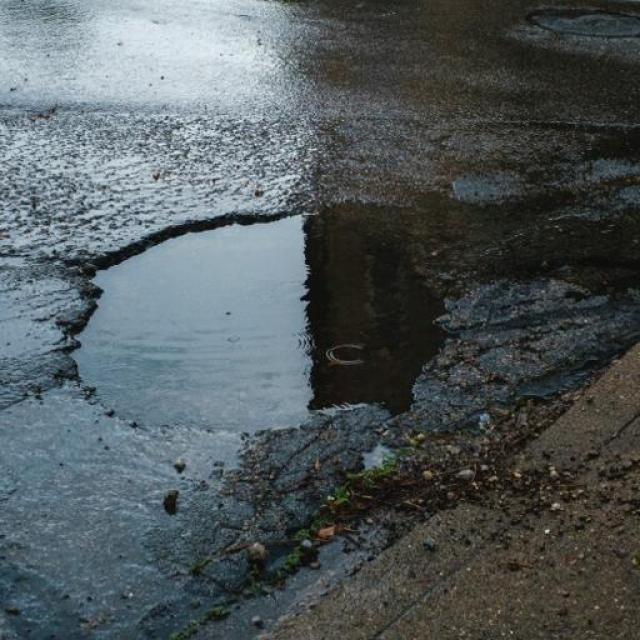puddle: (75, 232, 450, 413)
